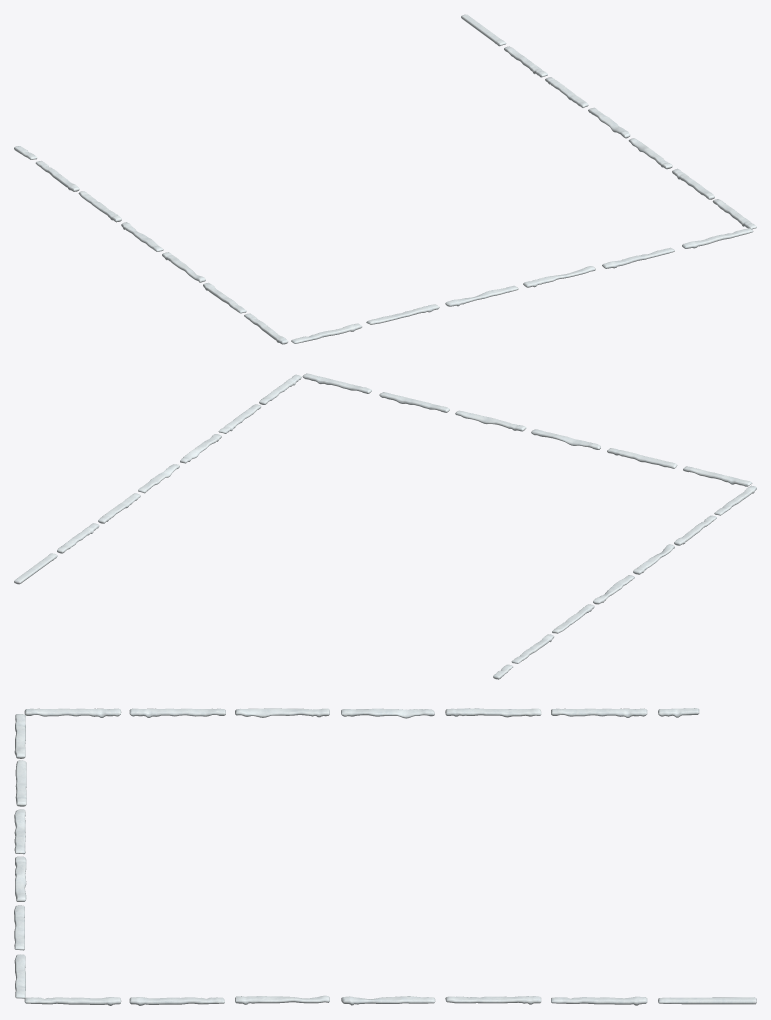
The model's file is ChristmasRoom_OutsideSnow.fbx.
3 renders of one model, top to bottom at view 1: azimuth 30°, elevation 25°; view 2: azimuth 150°, elevation 25°; view 3: azimuth 270°, elevation 25°, orthographic. The views are drawn at different scales.
Parts seen in each view (by area): view 1: ChristmasRoom_OutsideSnow; view 2: ChristmasRoom_OutsideSnow; view 3: ChristmasRoom_OutsideSnow.
Boxes of the visible parts, bbox=[...] form: ChristmasRoom_OutsideSnow: bbox=[14, 14, 756, 344]; ChristmasRoom_OutsideSnow: bbox=[14, 373, 756, 679]; ChristmasRoom_OutsideSnow: bbox=[14, 708, 756, 1005].
Bounding box in the file's own units: 990 × 12.05 × 1057.
